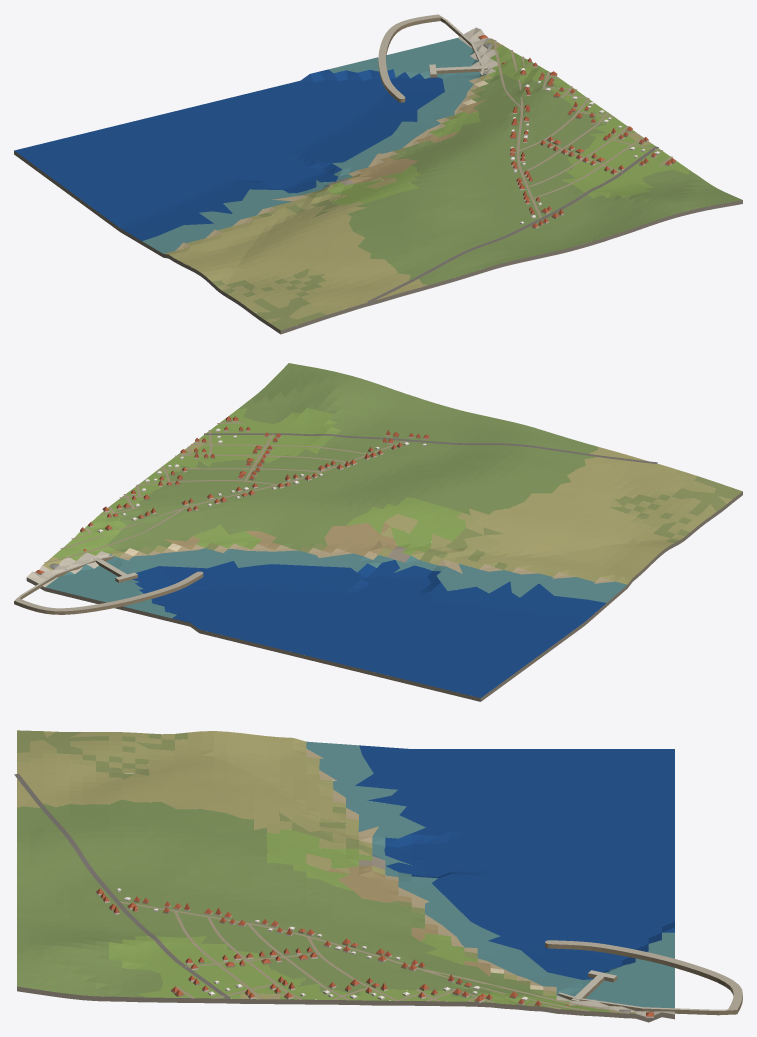
Rendered from parca_-1_-1-uzak.glb.
3 renders of one model, top to bottom at view 1: azimuth 30°, elevation 25°; view 2: azimuth 150°, elevation 25°; view 3: azimuth 270°, elevation 25°, orthographic. The views are drawn at different scales.
Visible parts, largest first — view 1: parca_-1_-1_arazi_uzak, parca_-1_-1_yollar_uzak, parca_-1_-1_yapilar_uzak, bina_liman_mendirek; view 2: parca_-1_-1_arazi_uzak, parca_-1_-1_yollar_uzak, parca_-1_-1_yapilar_uzak, bina_liman_mendirek; view 3: parca_-1_-1_arazi_uzak, parca_-1_-1_yollar_uzak, parca_-1_-1_yapilar_uzak, bina_liman_mendirek, rihtim_0, bina_liman_iskele.
Boxes of the visible parts, box(x1,y1,x2,y2) form: parca_-1_-1_arazi_uzak: box(14, 27, 742, 334); parca_-1_-1_yollar_uzak: box(367, 40, 672, 302); parca_-1_-1_yapilar_uzak: box(478, 35, 675, 228); bina_liman_mendirek: box(378, 14, 442, 102); parca_-1_-1_arazi_uzak: box(26, 363, 742, 701); parca_-1_-1_yollar_uzak: box(44, 422, 657, 562); parca_-1_-1_yapilar_uzak: box(35, 416, 429, 575); bina_liman_mendirek: box(14, 571, 203, 614); parca_-1_-1_arazi_uzak: box(17, 730, 674, 1022); parca_-1_-1_yollar_uzak: box(14, 773, 629, 1013); parca_-1_-1_yapilar_uzak: box(96, 888, 653, 1017); bina_liman_mendirek: box(545, 940, 742, 1012); rihtim_0: box(557, 992, 737, 1015); bina_liman_iskele: box(571, 970, 617, 1000).
Size of the model in its own units: 1004 by 81.74 by 1108.
